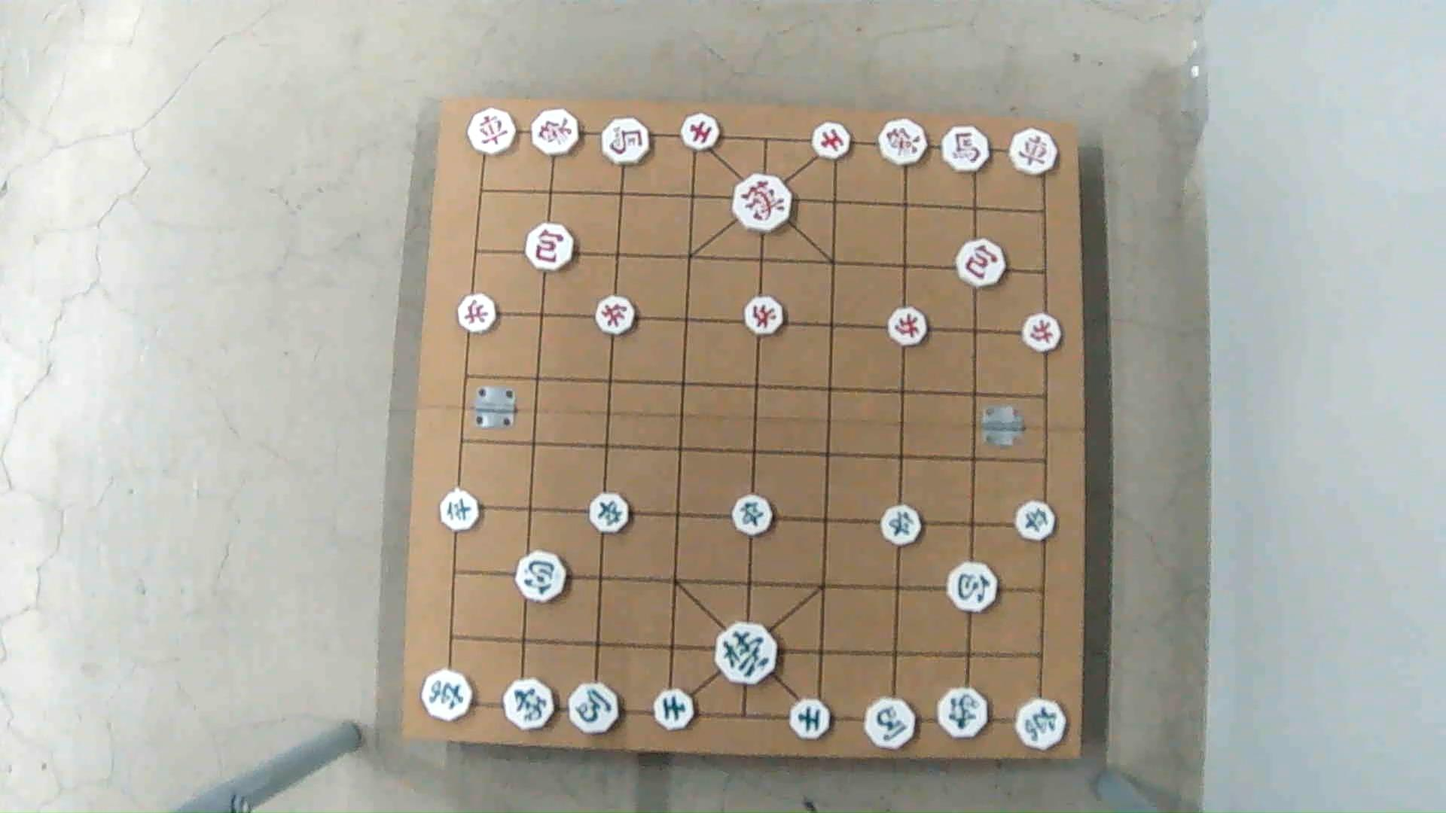cha_green: (419, 665, 475, 719), (1013, 701, 1066, 749)
cha_red: (1008, 129, 1060, 173), (468, 111, 520, 153)
jol_green: (880, 507, 924, 544), (731, 498, 776, 534), (1013, 504, 1058, 540), (442, 493, 487, 529), (588, 496, 633, 531)
jol_red: (886, 309, 932, 345), (593, 299, 638, 334), (741, 298, 784, 334), (1022, 316, 1066, 351), (455, 296, 499, 331)
ma_green: (865, 700, 921, 748), (566, 684, 622, 731)
ma_red: (600, 120, 652, 164), (938, 129, 990, 171)
po_green: (512, 554, 567, 599), (946, 565, 999, 609)
po_red: (956, 243, 1010, 288), (525, 225, 577, 269)
sa_green: (651, 691, 695, 730), (791, 697, 831, 737)
sa_red: (679, 114, 721, 148), (810, 125, 850, 160)
sang_green: (500, 681, 557, 729), (934, 690, 989, 739)
sang_red: (529, 112, 581, 154), (880, 119, 927, 163)
wang_green: (713, 623, 776, 680)
wang_red: (734, 178, 793, 230)
